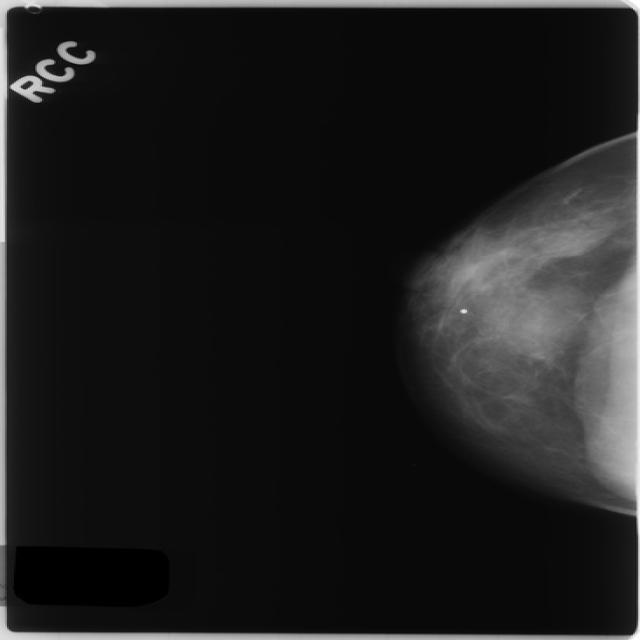tumour: (530, 214, 615, 256)
